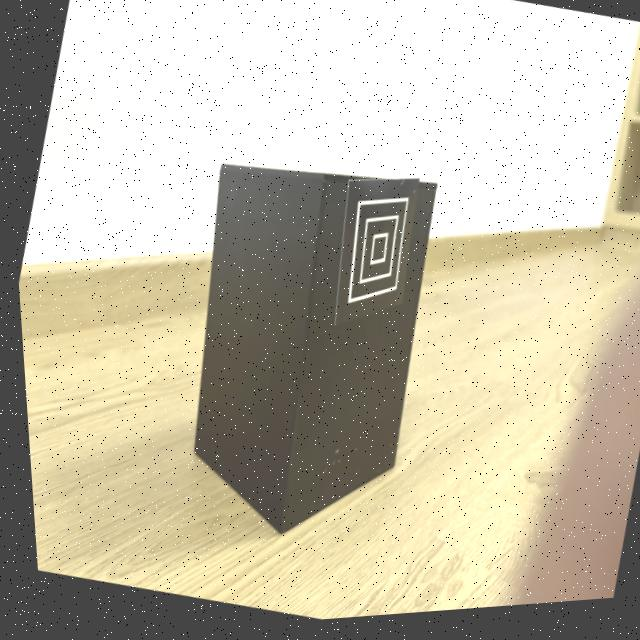BULLSEYE: (329, 184, 417, 333)
